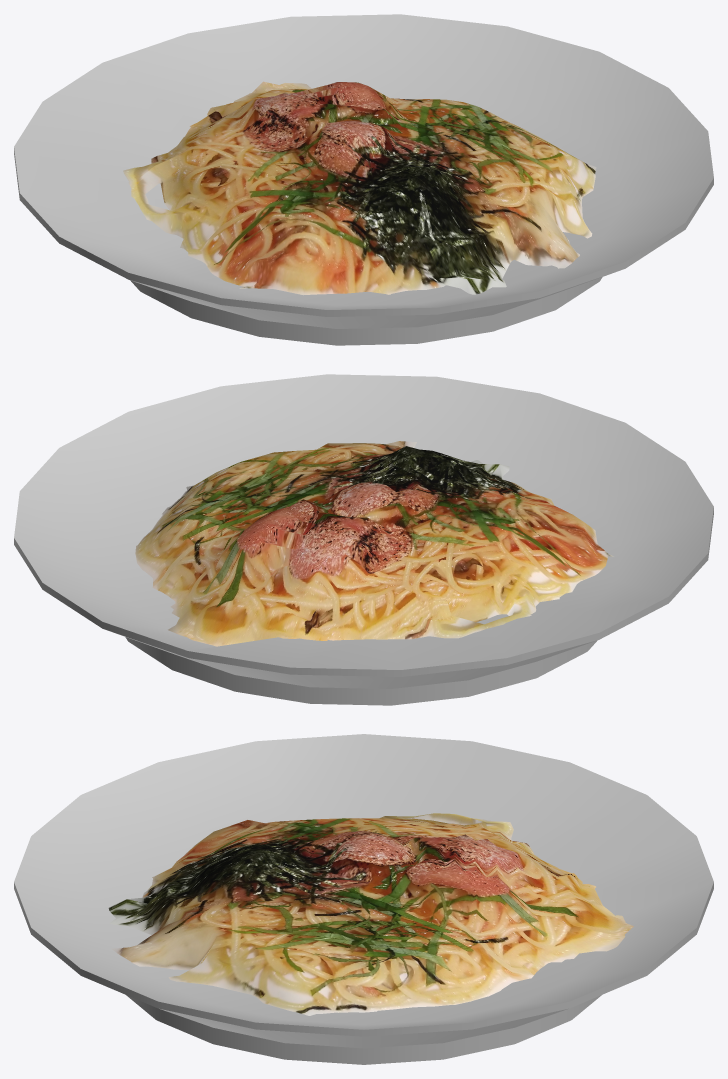
File: supagettiiiiiiii.fbx
3 renders of one model, top to bottom at view 1: azimuth 30°, elevation 25°; view 2: azimuth 150°, elevation 25°; view 3: azimuth 270°, elevation 25°, orthographic.
Visible parts, largest first — view 1: pDisc2; view 2: pDisc2; view 3: pDisc2.
Boxes of the visible parts, x1,y1,x2,y2 form: pDisc2: (14,14,713,345); pDisc2: (14,374,713,705); pDisc2: (14,734,713,1064).
Bounding box in the file's own units: 2 × 0.348 × 2.
